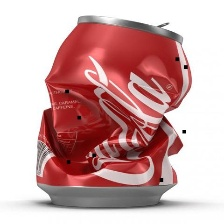can: (33, 12, 194, 211)
